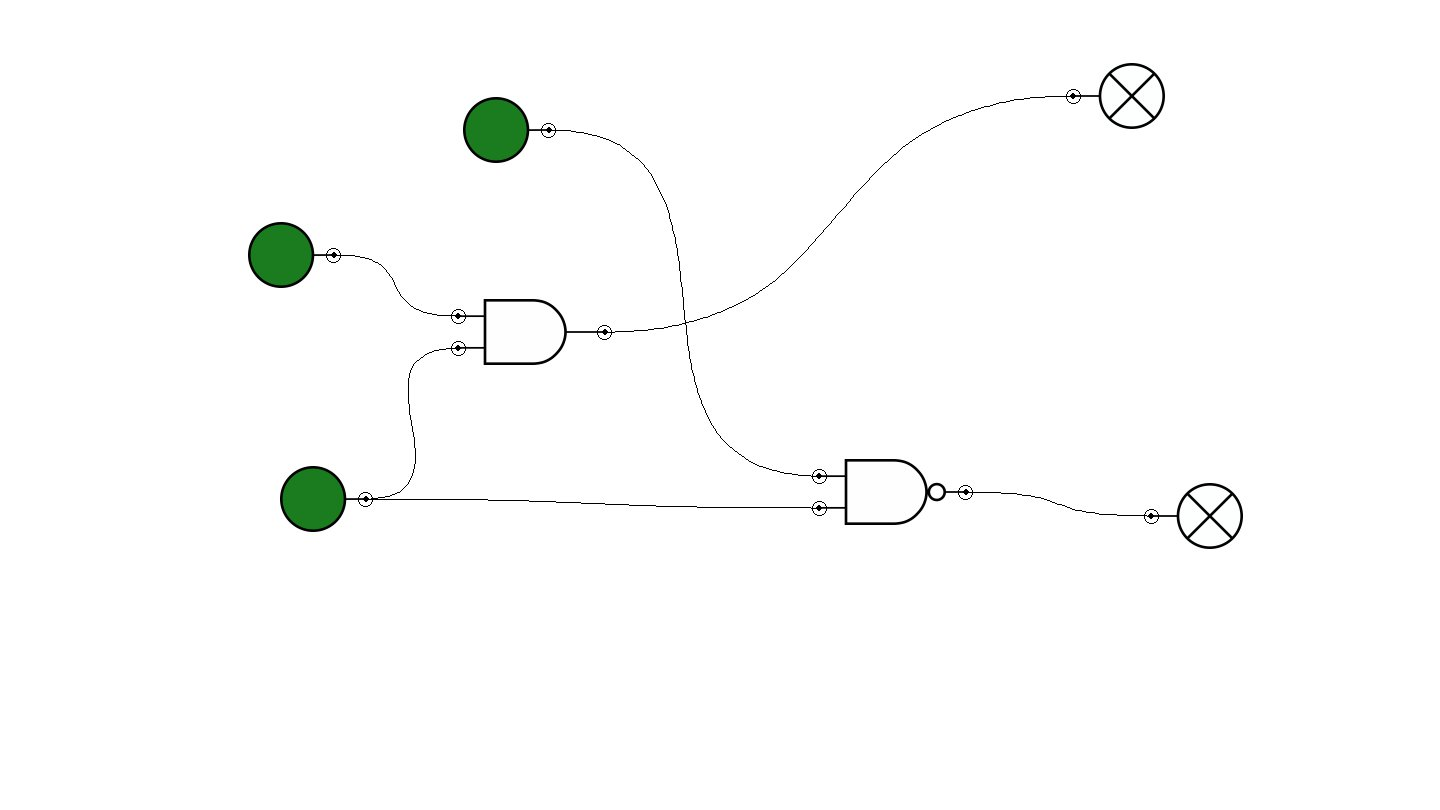and: (451, 299, 612, 365)
bulb: (1144, 483, 1243, 549), (1066, 63, 1165, 129)
nand: (812, 459, 973, 525)
switch_True: (463, 97, 556, 163), (280, 466, 373, 532), (248, 222, 341, 288)
